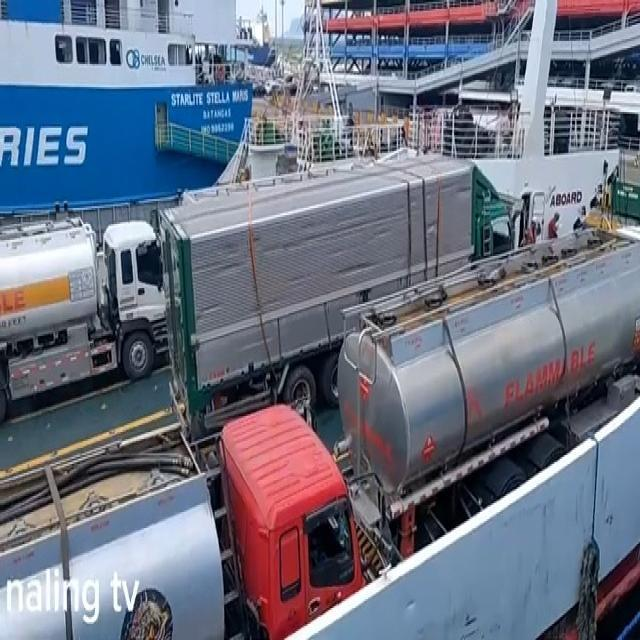truck: (332, 226, 640, 584), (160, 156, 514, 457), (0, 401, 363, 640), (0, 202, 169, 426)
